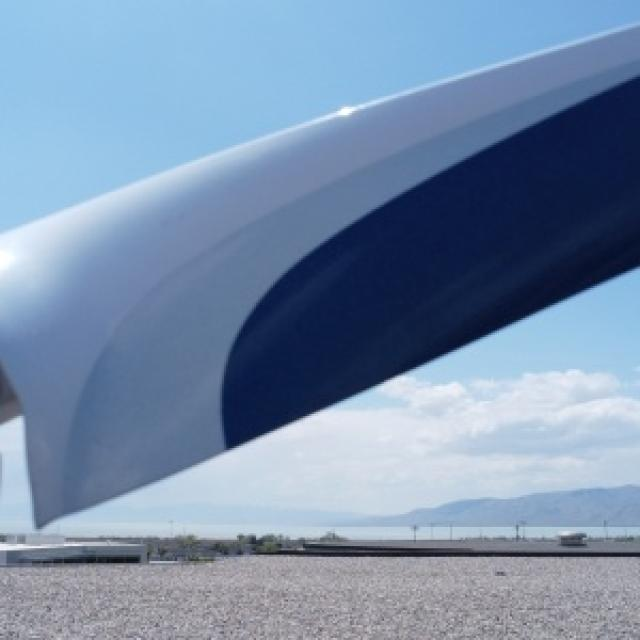healthy: (49, 269, 638, 529)
